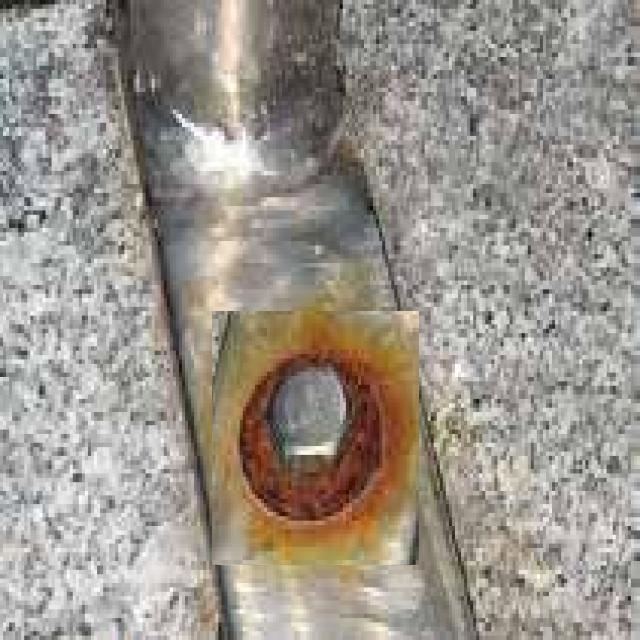Corrosion: (241, 360, 382, 522)
